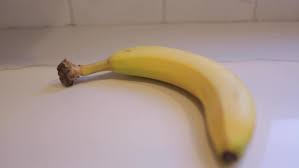banana: (55, 43, 263, 168)
